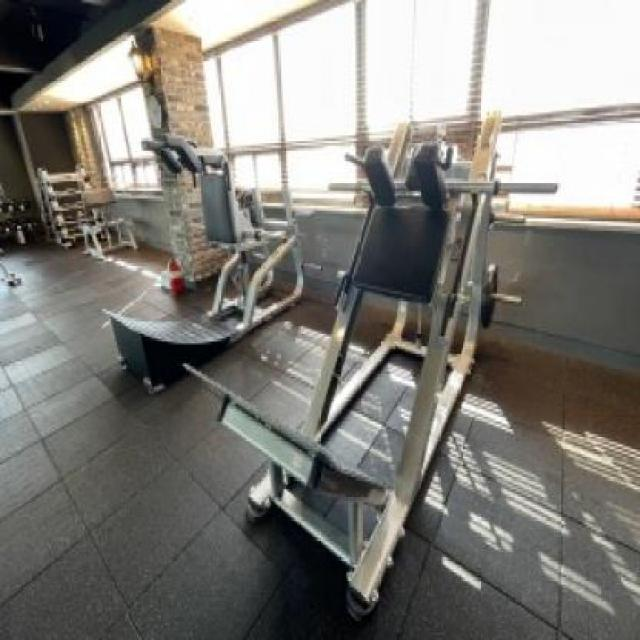leg press: (190, 97, 562, 620)
